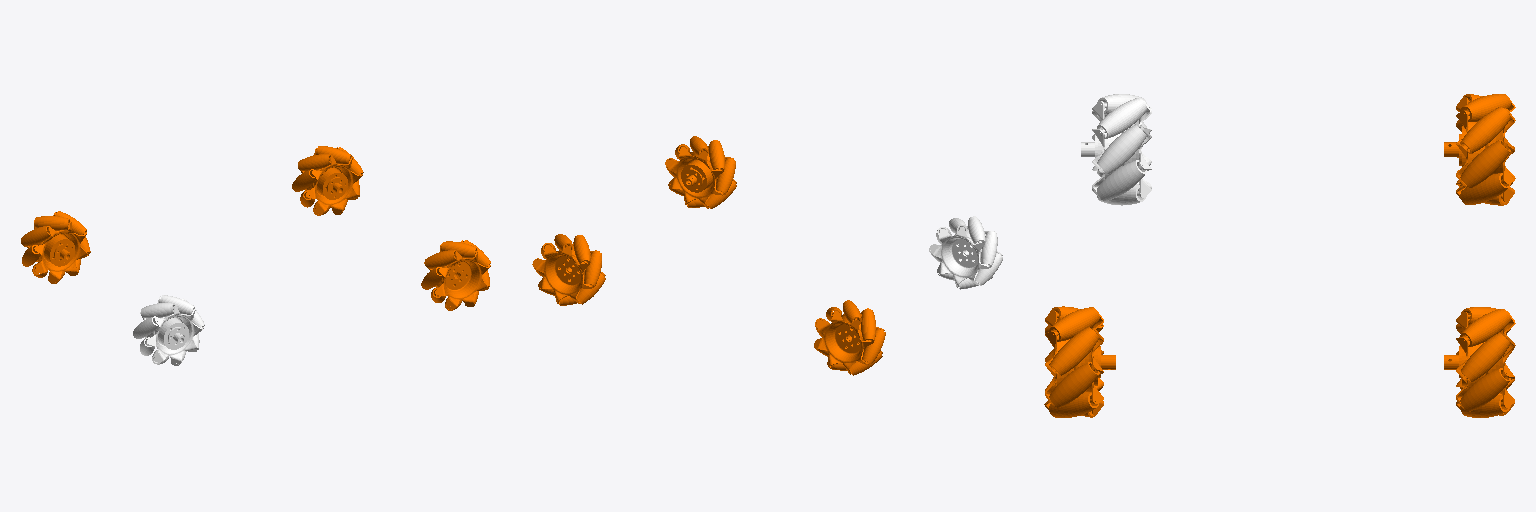
URDF robot description (mecanum_car_model):
<?xml version="1.0" encoding="utf-8"?>
<!-- This URDF was automatically created by SolidWorks to URDF Exporter! Originally created by Stephen Brawner (brawner@gmail.com) 
     Commit Version: 1.6.1-15-g882169e-dirty  Build Version: 1.6.9772.27582
     For more information, please see http://wiki.ros.org/sw_urdf_exporter -->
<robot
  name="mecanum_car_model">
  <link
    name="base_link">
    <inertial>
      <origin
        xyz="-0.00617548796968703 2.14769852919378E-07 0.0309079670235533"
        rpy="0 0 0" />
      <mass
        value="0.87462862212344" />
      <inertia
        ixx="0.00121174902969862"
        ixy="-1.37532960808209E-09"
        ixz="7.51707146549115E-08"
        iyy="0.00150200636211398"
        iyz="-1.90825620386568E-09"
        izz="0.00262520240536681" />
    </inertial>
    <visual>
      <origin
        xyz="0 0 0"
        rpy="0 0 0" />
      <geometry>
        <mesh
          filename="package://mecanum_car_model/meshes/base_link.STL" />
      </geometry>
      <material
        name="">
        <color
          rgba="0.752941176470588 0.752941176470588 0.752941176470588 1" />
      </material>
    </visual>
    <collision>
      <origin
        xyz="0 0 0"
        rpy="0 0 0" />
      <geometry>
        <mesh
          filename="package://mecanum_car_model/meshes/base_link.STL" />
      </geometry>
    </collision>
  </link>
  <link
    name="Link1">
    <inertial>
      <origin
        xyz="-1.88014599916686E-07 -0.00203296193576138 9.78207196355996E-08"
        rpy="0 0 0" />
      <mass
        value="0.056517377222027" />
      <inertia
        ixx="6.62770031857577E-06"
        ixy="-7.11572299839219E-12"
        ixz="6.25142269994061E-11"
        iyy="8.36947024585629E-06"
        iyz="1.6261553751241E-11"
        izz="6.62775492771518E-06" />
    </inertial>
    <visual>
      <origin
        xyz="0 0 0"
        rpy="0 0 0" />
      <geometry>
        <mesh
          filename="package://mecanum_car_model/meshes/Link1.STL" />
      </geometry>
      <material
        name="">
        <color
          rgba="1 0.501960784313725 0 1" />
      </material>
    </visual>
    <collision>
      <origin
        xyz="0 0 0"
        rpy="0 0 0" />
      <geometry>
        <mesh
          filename="package://mecanum_car_model/meshes/Link1.STL" />
      </geometry>
    </collision>
  </link>
  <joint
    name="wheel_back_left"
    type="continuous">
    <origin
      xyz="0.16537 -0.1402 0.016148"
      rpy="-3.1416 0.10332 0" />
    <parent
      link="base_link" />
    <child
      link="Link1" />
    <axis
      xyz="0 0 0" />
  </joint>
  <link
    name="Link2">
    <inertial>
      <origin
        xyz="-1.88016380693601E-07 -0.00203296194037358 9.78170021370683E-08"
        rpy="0 0 0" />
      <mass
        value="0.0565173772218734" />
      <inertia
        ixx="6.62770031763641E-06"
        ixy="-7.11538727292526E-12"
        ixz="6.25141790106486E-11"
        iyy="8.36947024585973E-06"
        iyz="1.62614903065577E-11"
        izz="6.6277549286727E-06" />
    </inertial>
    <visual>
      <origin
        xyz="0 0 0"
        rpy="0 0 0" />
      <geometry>
        <mesh
          filename="package://mecanum_car_model/meshes/Link2.STL" />
      </geometry>
      <material
        name="">
        <color
          rgba="1 0.501960784313725 0 1" />
      </material>
    </visual>
    <collision>
      <origin
        xyz="0 0 0"
        rpy="0 0 0" />
      <geometry>
        <mesh
          filename="package://mecanum_car_model/meshes/Link2.STL" />
      </geometry>
    </collision>
  </link>
  <joint
    name="wheel_back_right"
    type="continuous">
    <origin
      xyz="0.16537 0.1402 0.016148"
      rpy="3.1416 -0.2389 -3.1416" />
    <parent
      link="base_link" />
    <child
      link="Link2" />
    <axis
      xyz="0 0 0" />
  </joint>
  <link
    name="Link3">
    <inertial>
      <origin
        xyz="-1.88014504493017E-07 -0.00203296154348653 9.7821514832841E-08"
        rpy="0 0 0" />
      <mass
        value="0.0565173772360903" />
      <inertia
        ixx="6.62770031533193E-06"
        ixy="-7.11616974981988E-12"
        ixz="6.25122984420751E-11"
        iyy="8.36947024630998E-06"
        iyz="1.62609436783801E-11"
        izz="6.62775492351999E-06" />
    </inertial>
    <visual>
      <origin
        xyz="0 0 0"
        rpy="0 0 0" />
      <geometry>
        <mesh
          filename="package://mecanum_car_model/meshes/Link3.STL" />
      </geometry>
      <material
        name="">
        <color
          rgba="1 0.501960784313725 0 1" />
      </material>
    </visual>
    <collision>
      <origin
        xyz="0 0 0"
        rpy="0 0 0" />
      <geometry>
        <mesh
          filename="package://mecanum_car_model/meshes/Link3.STL" />
      </geometry>
    </collision>
  </link>
  <joint
    name="wheel_front_right"
    type="continuous">
    <origin
      xyz="-0.17778 0.1402 0.016148"
      rpy="3.1416 0.10332 3.1416" />
    <parent
      link="base_link" />
    <child
      link="Link3" />
    <axis
      xyz="0 0 0" />
  </joint>
  <link
    name="Link4">
    <inertial>
      <origin
        xyz="-1.64656654075279E-07 0.0141670385235782 -1.33437571325778E-07"
        rpy="0 0 0" />
      <mass
        value="0.056517377224795" />
      <inertia
        ixx="6.62770053573972E-06"
        ixy="-1.7749801847232E-11"
        ixz="-6.26119474138825E-11"
        iyy="8.3694702419069E-06"
        iyz="-4.34490719214261E-14"
        izz="6.62775469772777E-06" />
    </inertial>
    <visual>
      <origin
        xyz="0 0 0"
        rpy="0 0 0" />
      <geometry>
        <mesh
          filename="package://mecanum_car_model/meshes/Link4.STL" />
      </geometry>
      <material
        name="">
        <color
          rgba="1 1 1 1" />
      </material>
    </visual>
    <collision>
      <origin
        xyz="0 0 0"
        rpy="0 0 0" />
      <geometry>
        <mesh
          filename="package://mecanum_car_model/meshes/Link4.STL" />
      </geometry>
    </collision>
  </link>
  <joint
    name="wheel_front_left"
    type="continuous">
    <origin
      xyz="-0.17778 -0.124 0.016148"
      rpy="3.1416 -1.3997 0" />
    <parent
      link="base_link" />
    <child
      link="Link4" />
    <axis
      xyz="0 0 0" />
  </joint>
</robot>

--- Render facts (derived) ---
Views: 3 orthographic renders of the robot side by side, from view 1: azimuth 30°, elevation 25°; view 2: azimuth 150°, elevation 25°; view 3: azimuth 270°, elevation 25°.
Model mecanum_car_model with 5 links and 4 joints (4 continuous), rooted at base_link, posed every joint at zero.
Visible links, largest first — view 1: Link2, Link1, Link3, Link4; view 2: Link3, Link1, Link4, Link2; view 3: Link1, Link3, Link2, Link4.
Boxes of the visible links, <box> form: Link2: <box>292,146,363,215</box>; Link1: <box>421,240,490,310</box>; Link3: <box>21,211,90,283</box>; Link4: <box>133,295,204,365</box>; Link3: <box>814,300,885,375</box>; Link1: <box>665,136,736,208</box>; Link4: <box>929,216,1002,289</box>; Link2: <box>532,234,605,305</box>; Link1: <box>1044,306,1115,417</box>; Link3: <box>1444,94,1515,205</box>; Link2: <box>1444,307,1515,417</box>; Link4: <box>1081,94,1151,205</box>.
Size in the robot's own frame: 0.4194 by 0.3212 by 0.0762 metres.
Meshes: 5 distinct files referenced, 4 mesh visuals loaded (4 binary STL); not drawn: 1 (reference not matched to a file when rendering).
